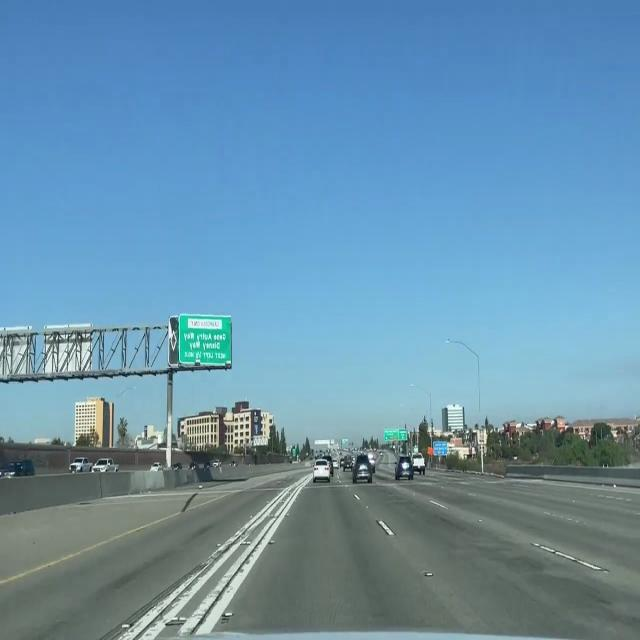street-signs: (178, 312, 231, 366), (384, 427, 399, 443), (399, 428, 408, 442), (292, 448, 296, 456)
